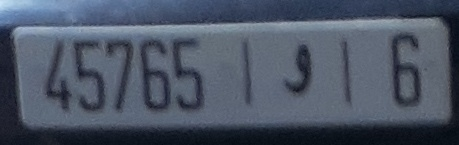4: (35, 38, 74, 120)
5: (170, 34, 208, 113), (73, 36, 104, 117)
6: (383, 28, 427, 113), (138, 36, 173, 113)
7: (103, 36, 138, 114)
waw: (278, 39, 315, 106)
